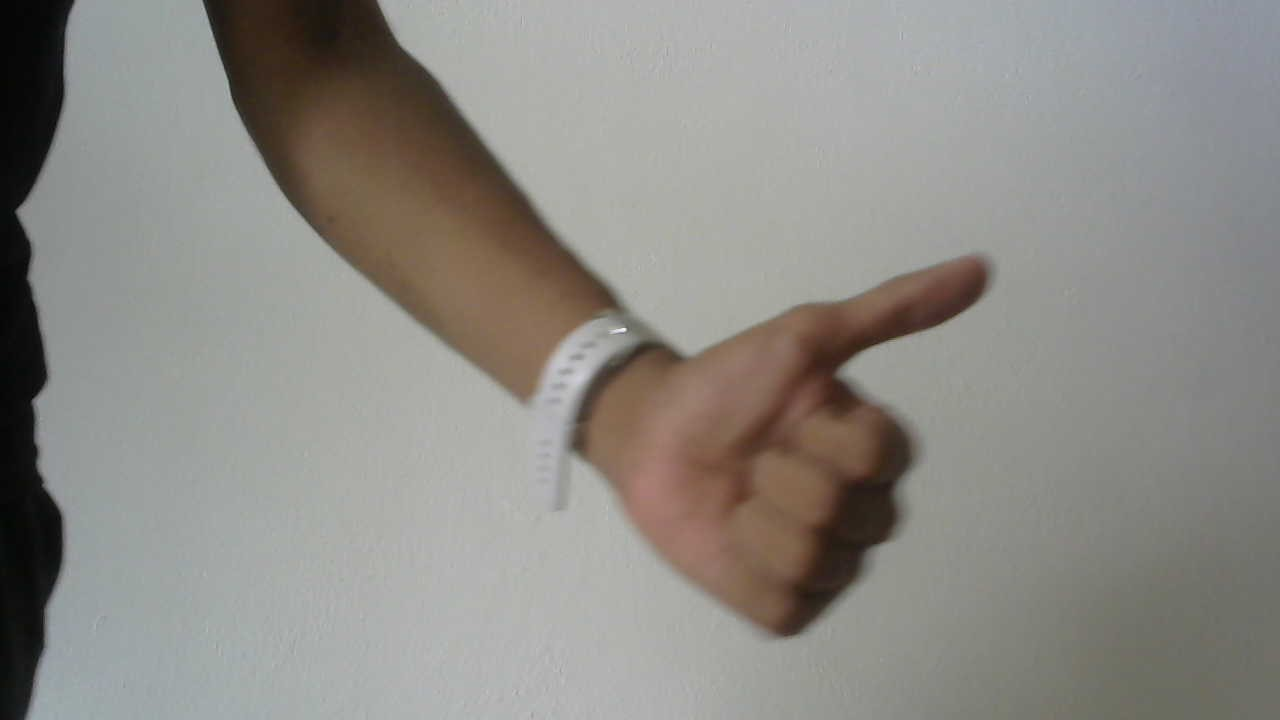thumbsup: (610, 239, 1009, 648)
